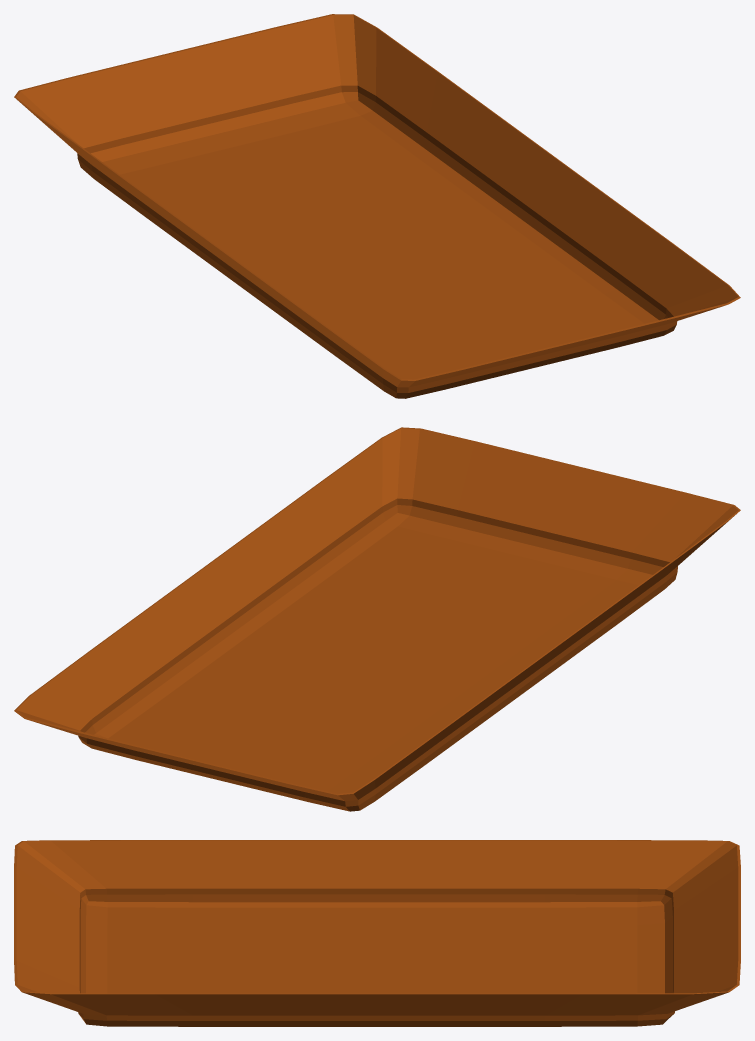
File: SelloAlmohadillaTaduralacosa.fbx
3 views of the same model, one above another, from view 1: azimuth 30°, elevation 25°; view 2: azimuth 150°, elevation 25°; view 3: azimuth 270°, elevation 25° (orthographic). The views are drawn at different scales.
Parts seen in each view (by area): view 1: Cube.003; view 2: Cube.003; view 3: Cube.003.
Boxes of the visible parts, box(x1,y1,x2,y2) form: Cube.003: box(14, 14, 740, 398); Cube.003: box(14, 427, 740, 811); Cube.003: box(14, 840, 740, 1026).
Size of the model in its own units: 47.67 by 7.34 by 94.88.
